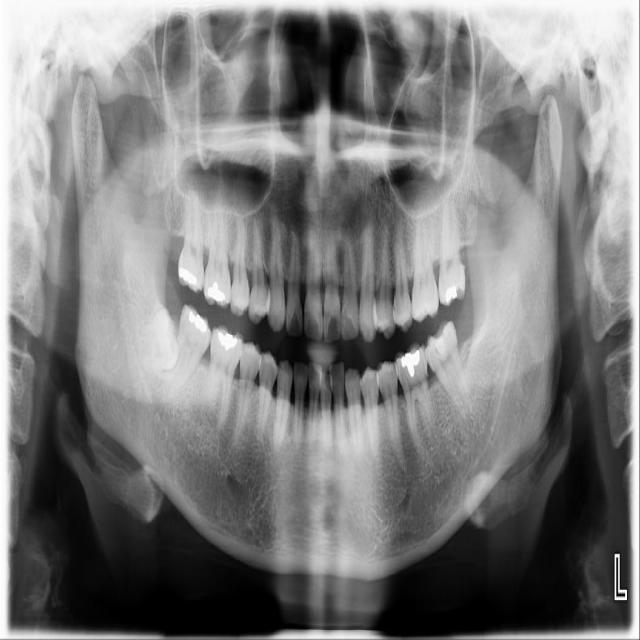52: (169, 299, 223, 357), (388, 339, 438, 391), (200, 322, 249, 374), (437, 256, 466, 307), (201, 265, 232, 308), (178, 246, 205, 295)
73: (612, 564, 618, 572)
BioHorizons Implant: (437, 190, 469, 307)
Blue Sky Bio Implant: (418, 318, 477, 429)
Caries: (176, 179, 205, 294)
Implant: (151, 302, 221, 404)
Keystone Dental Implant: (135, 307, 180, 373)
